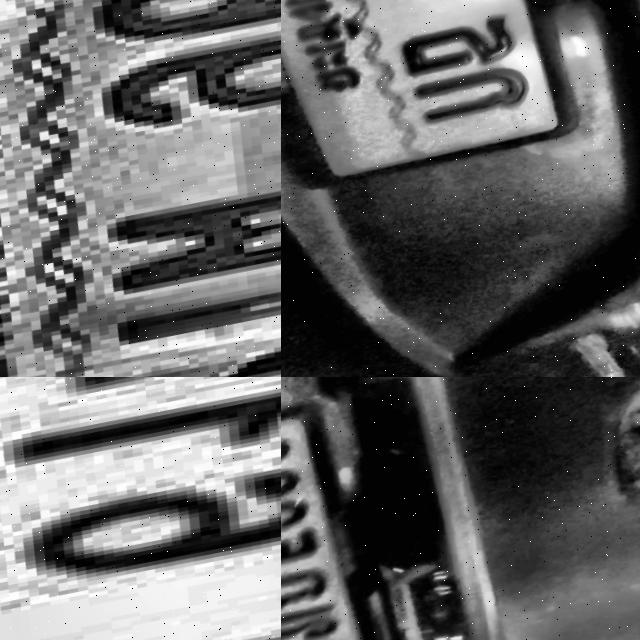license-plate: (0, 0, 281, 377), (0, 377, 281, 640), (281, 0, 564, 181), (281, 417, 364, 640)
